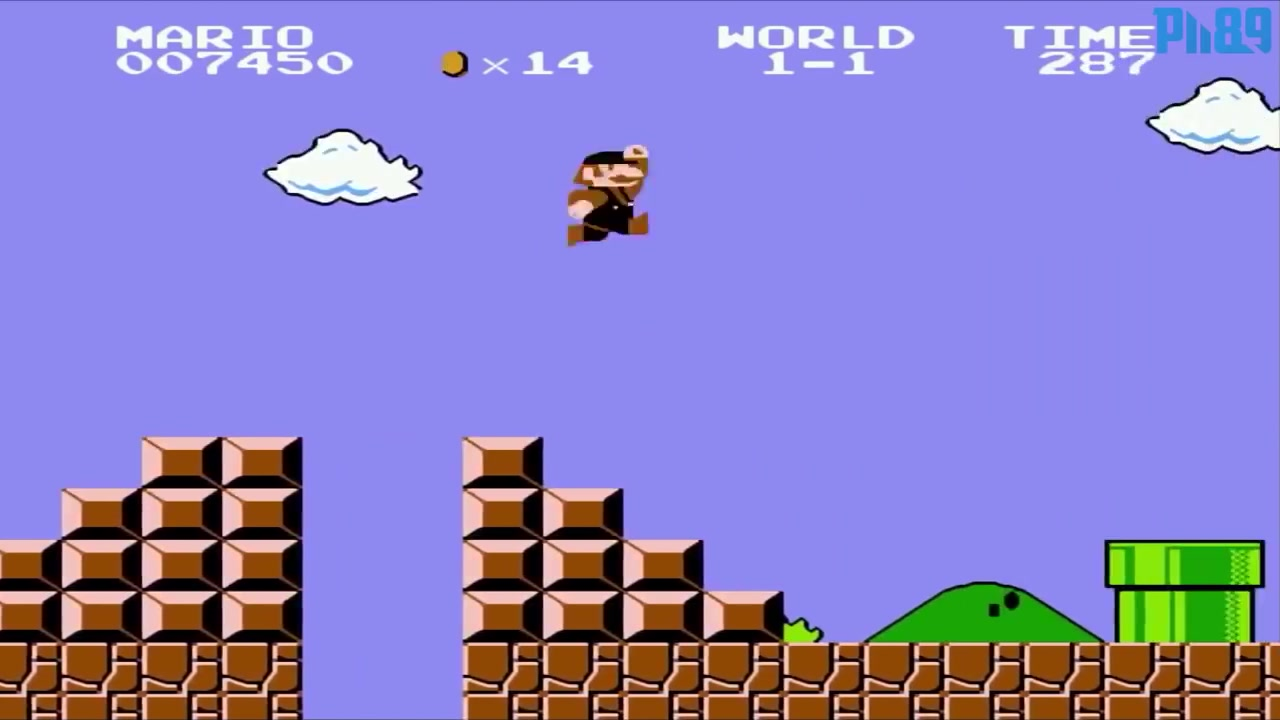mario: (565, 141, 662, 251)
